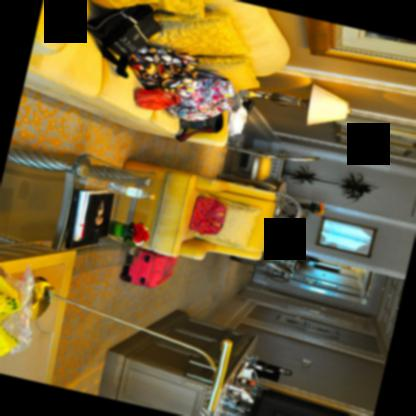backpack: (163, 71, 241, 122), (126, 46, 198, 90), (186, 198, 226, 234)
handbag: (82, 4, 160, 79), (174, 112, 223, 142), (133, 88, 177, 111)
suitcase: (121, 249, 175, 288)
